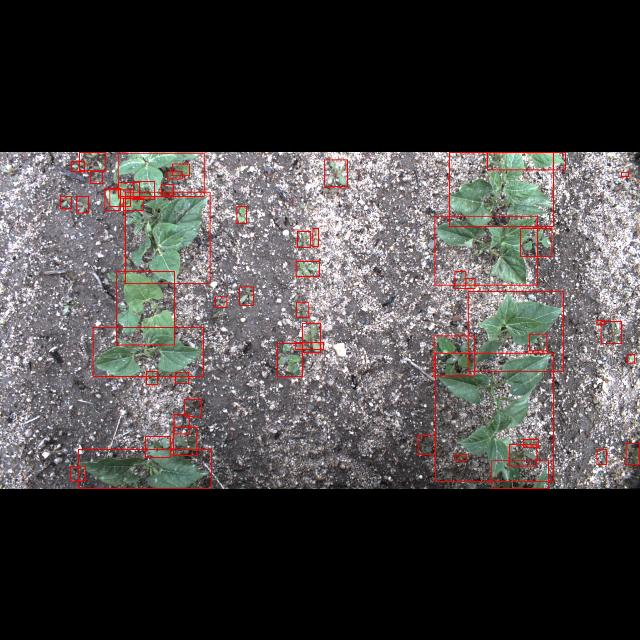crop: (435, 352, 553, 482), (468, 290, 564, 372), (126, 191, 210, 283), (449, 151, 553, 225), (434, 216, 538, 284), (92, 326, 204, 376), (78, 448, 212, 488), (116, 271, 174, 345), (118, 152, 204, 196), (492, 459, 548, 488), (487, 152, 565, 168)
weed: (434, 335, 474, 375), (520, 227, 552, 255), (278, 342, 302, 376), (324, 158, 348, 186), (173, 427, 197, 455), (509, 444, 537, 466), (302, 322, 320, 352), (146, 437, 170, 458), (600, 321, 622, 343), (80, 152, 106, 170), (133, 181, 155, 199), (110, 188, 130, 206), (296, 260, 318, 276), (118, 181, 140, 197), (105, 188, 121, 210), (418, 436, 436, 454), (174, 414, 190, 434), (626, 443, 640, 465), (184, 399, 202, 416), (529, 334, 547, 351), (70, 466, 86, 482), (239, 286, 253, 304), (123, 197, 143, 209), (454, 270, 466, 288), (172, 163, 190, 175), (76, 195, 88, 212), (298, 230, 310, 246), (294, 342, 324, 348), (237, 205, 247, 222), (296, 302, 308, 316), (146, 371, 158, 384), (60, 196, 72, 208), (90, 170, 102, 182), (597, 450, 607, 464), (175, 372, 189, 382), (161, 183, 173, 194), (72, 161, 84, 171), (215, 296, 227, 306), (168, 170, 182, 178), (524, 439, 538, 447), (312, 228, 318, 246), (466, 278, 474, 288), (456, 454, 466, 460), (628, 353, 634, 362), (622, 170, 628, 176), (596, 320, 604, 324)
